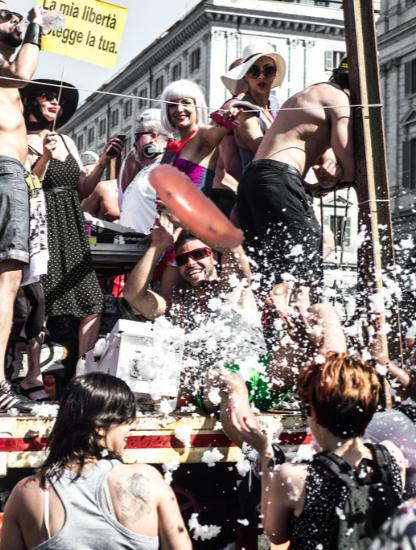Banana: (132, 152, 251, 271)
